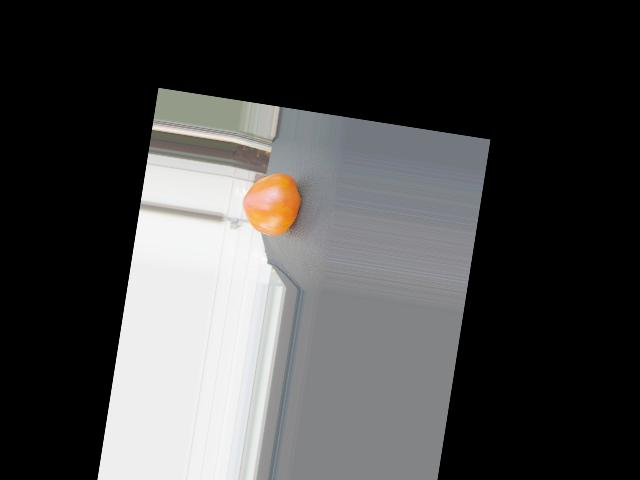tomato: (238, 168, 304, 239)
